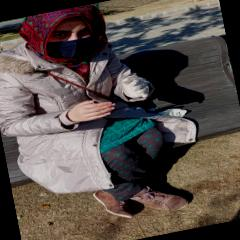gloved: (119, 74, 149, 101)
not-gloved: (66, 94, 118, 124)
